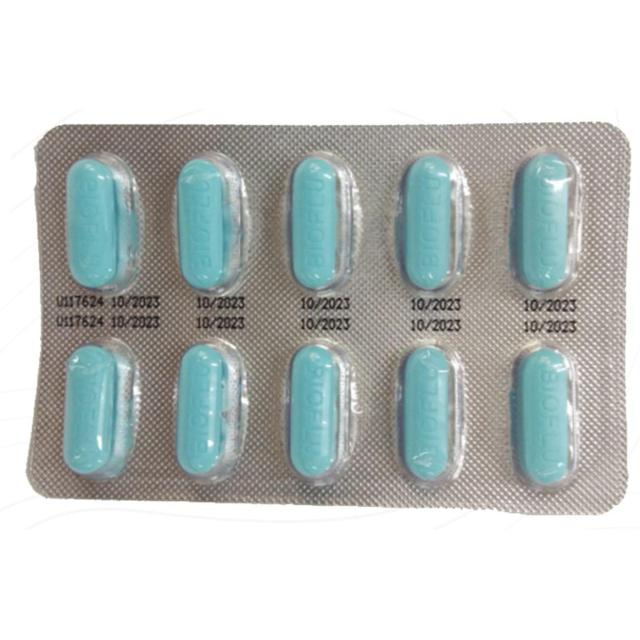blister: (22, 110, 633, 516)
